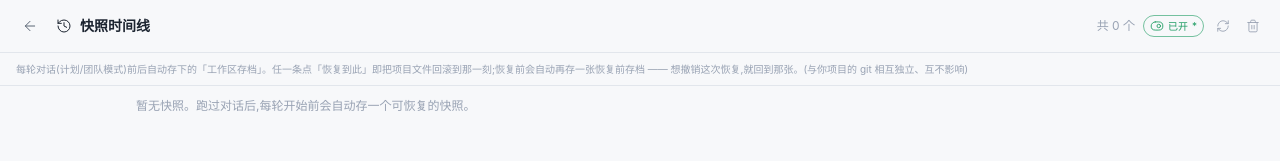
it: 快照总开关 › 后端带 warning 时把那句话贴出来,不吞掉
Click the button with test id "snapshot-toggle" at [1174, 26], box [1143,15,1204,37]
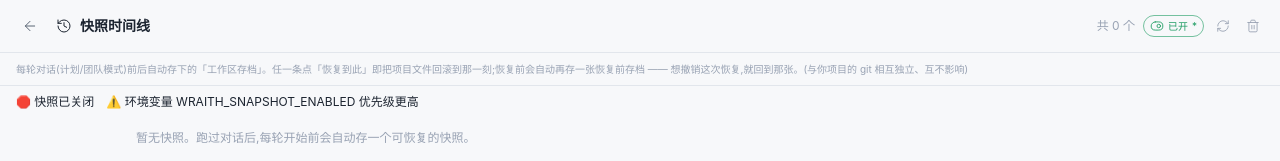
Result: the text "WRAITH_SNAPSHOT_ENABLED 优先级更高" is shown at [16,94,419,109]
